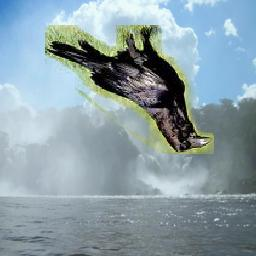Crow: (46, 26, 215, 155)
